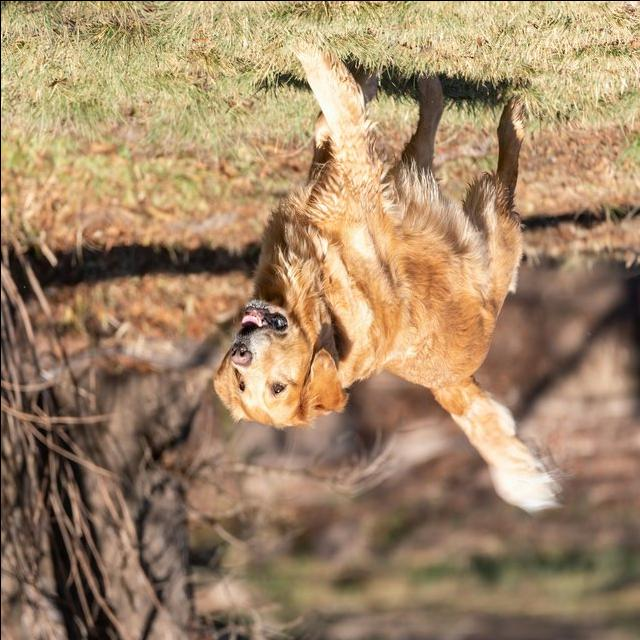retriever: (212, 37, 565, 514)
